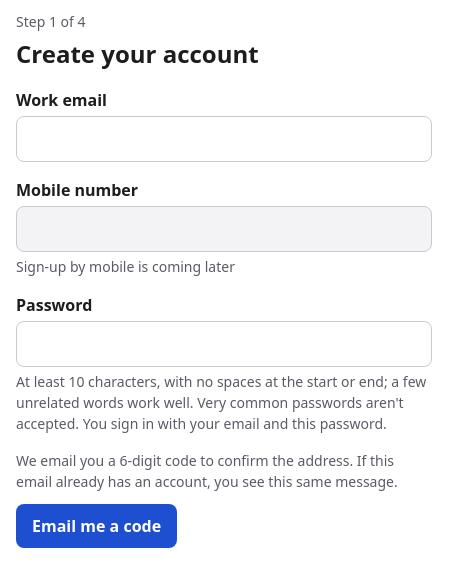
sign-up › sends a new code and restarts the countdown
The width and height of the screenshot is (449, 565).
Type "owner@vashi.example" into the field labelled "Work email" at (224, 139), box [16,116,432,162]
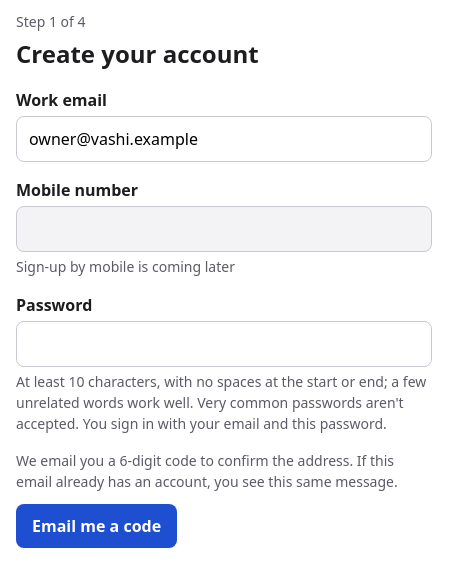
Type "seven lamps under a bridge" into the password field labelled "Password" at (224, 344), box [16,321,432,367]
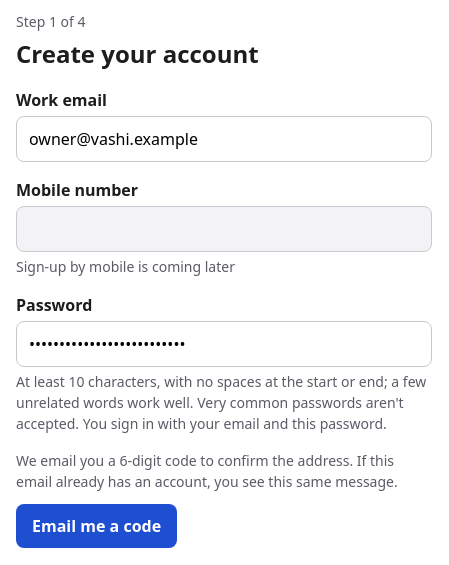
Click the button "Email me a code" at (97, 526), box [16,504,177,548]
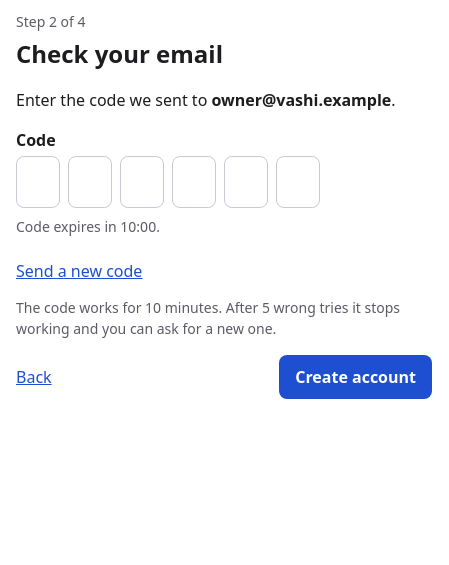
Result: the heading "Check your email" is shown at [16,37,223,70]
Click the button "Send a new code" at (87, 271), box [16,249,158,293]
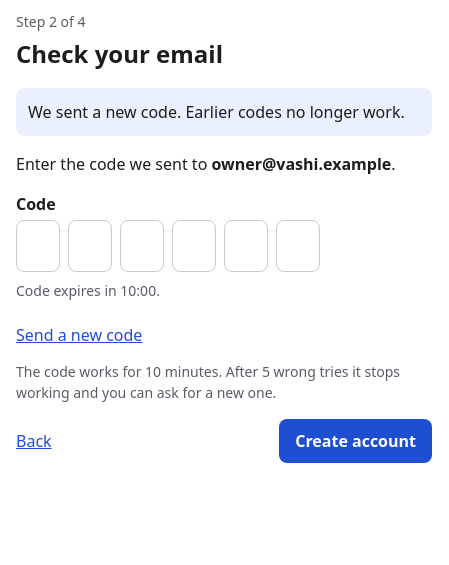
Result: the text "Code expires in 10:00." is shown at [16,281,160,300]
Result: the text "We sent a new code. Earlier codes no longer work." is shown at [16,88,432,136]
